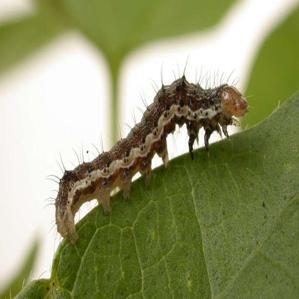Cotton bollworm: (30, 51, 266, 254)
